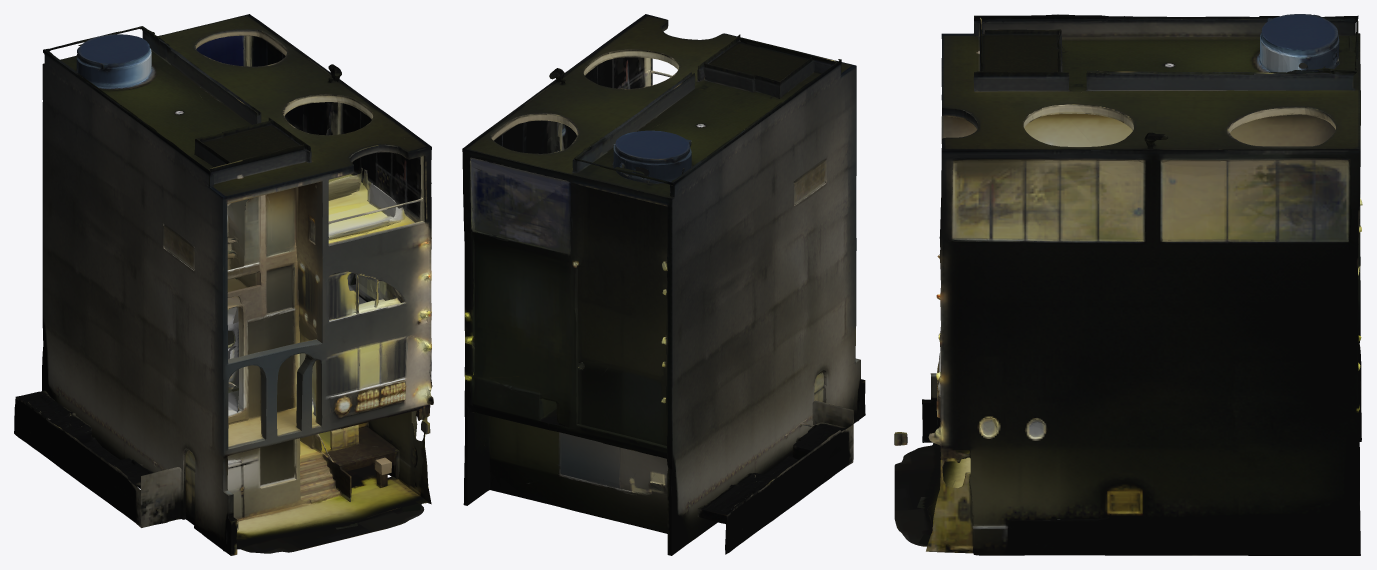
The model's file is hotelss.glb.
The picture shows the model from 3 angles, left to right: view 1: azimuth 30°, elevation 25°; view 2: azimuth 150°, elevation 25°; view 3: azimuth 270°, elevation 25°; orthographic projection. The views are drawn at different scales.
Parts seen in each view (by area): view 1: world; view 2: world; view 3: world.
Part boxes in pixels (left/top/right/bottom): world: left=14, top=14, right=433, bottom=555; world: left=462, top=14, right=865, bottom=555; world: left=894, top=14, right=1362, bottom=555.
Size of the model in its own units: 0.69 by 0.9991 by 0.9761.
1 material, 1 textured.
